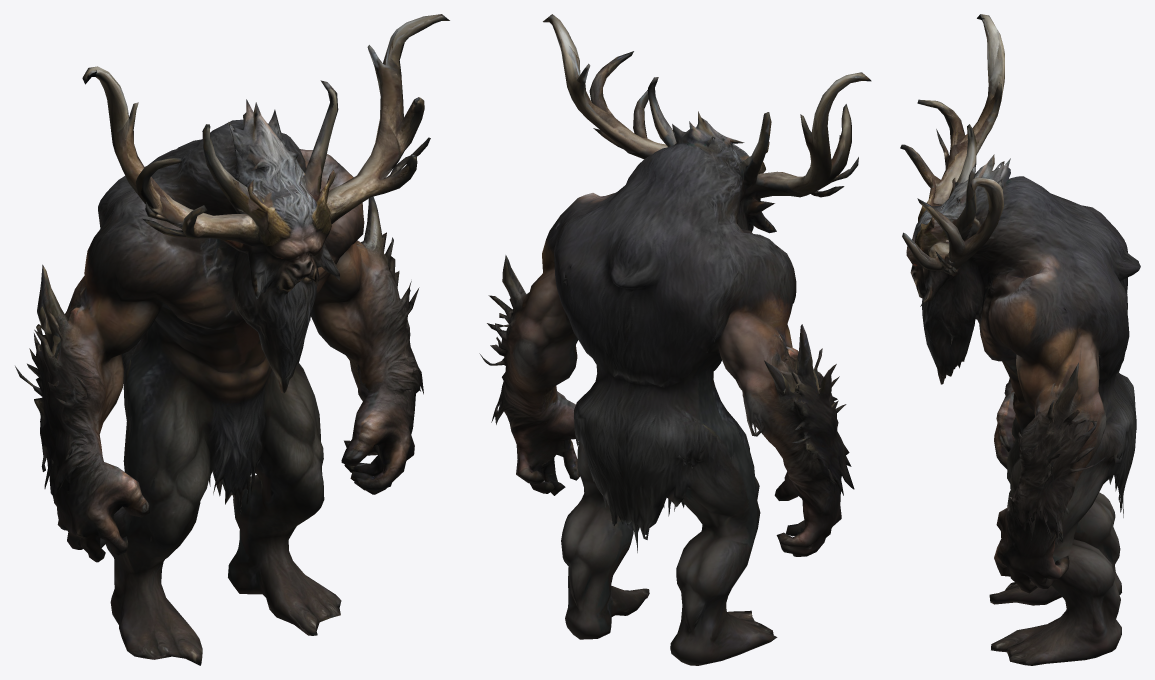
The model's file is Forest_Guardian_0504101306_texture.glb.
3 renders of one model, left to right at view 1: azimuth 30°, elevation 25°; view 2: azimuth 150°, elevation 25°; view 3: azimuth 270°, elevation 25°, orthographic. The views are drawn at different scales.
Size of the model in its own units: 1.27 by 2 by 0.805.
Materials: 1 (1 with a texture image).
